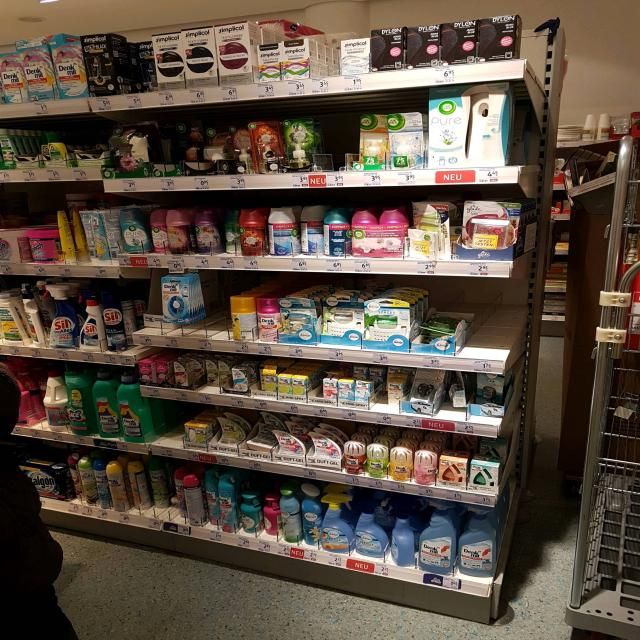void: (469, 287, 512, 374), (198, 272, 228, 353), (319, 112, 349, 188), (130, 275, 158, 350), (143, 397, 177, 457), (72, 126, 104, 186), (116, 29, 138, 112), (16, 124, 46, 183), (312, 34, 337, 91)
